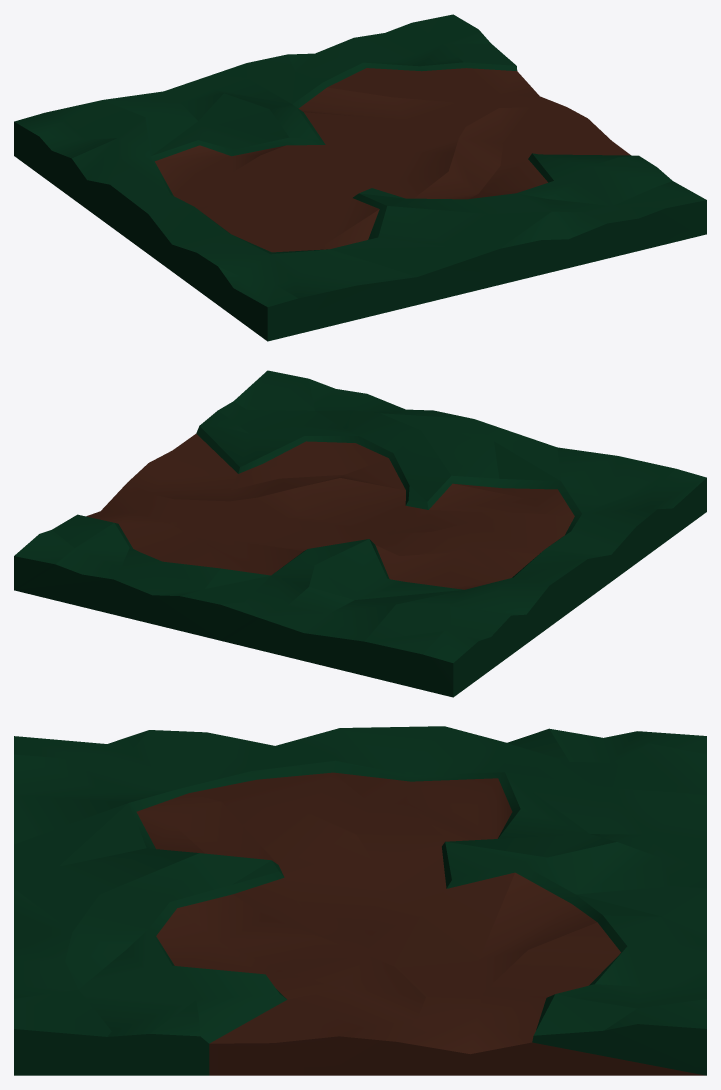
Rendered from Ground_Path_Ending_L.fbx.
3 views of the same model, one above another, from view 1: azimuth 30°, elevation 25°; view 2: azimuth 150°, elevation 25°; view 3: azimuth 270°, elevation 25° (orthographic). The views are drawn at different scales.
Visible parts, largest first — view 1: Ground_Path_Ending_L; view 2: Ground_Path_Ending_L; view 3: Ground_Path_Ending_L.
Part boxes in pixels (x1,y1,x2,y2): Ground_Path_Ending_L: (14,14,706,341); Ground_Path_Ending_L: (14,370,706,697); Ground_Path_Ending_L: (14,726,706,1075).
Bounding box in the file's own units: 147 × 14.69 × 147.
